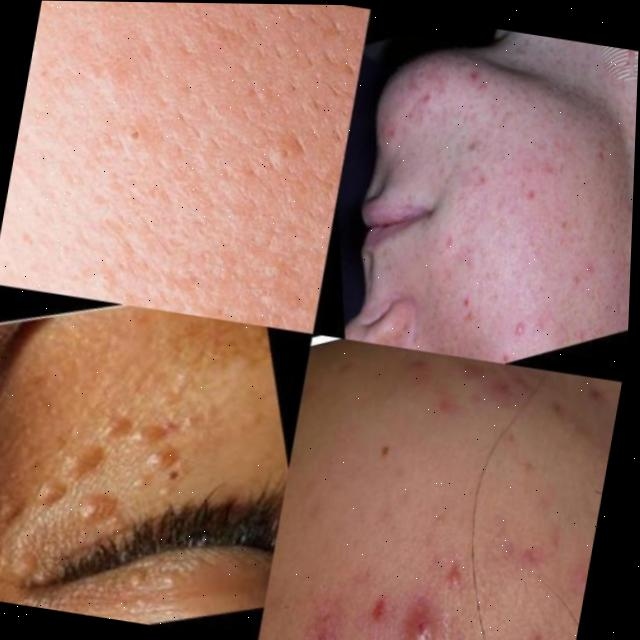Acne: (418, 47, 634, 308), (0, 374, 219, 584), (140, 2, 336, 228), (271, 519, 560, 640)
